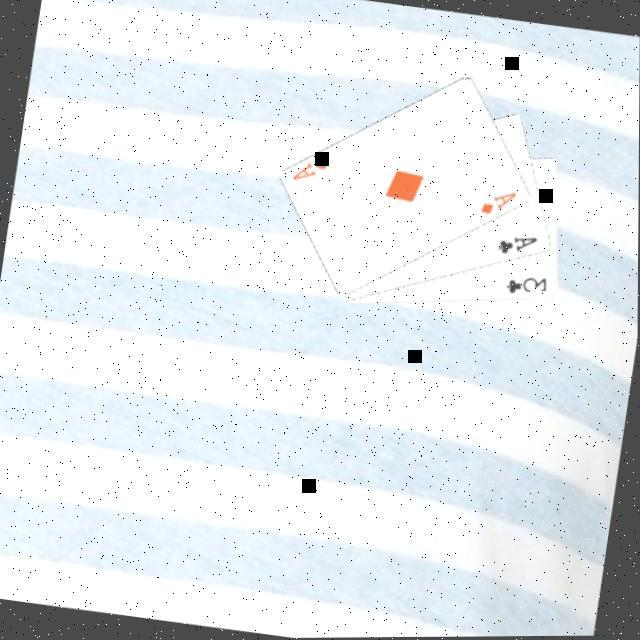3C: (505, 269, 554, 301)
AC: (496, 228, 543, 262)
AD: (479, 184, 523, 221), (291, 151, 335, 188)
